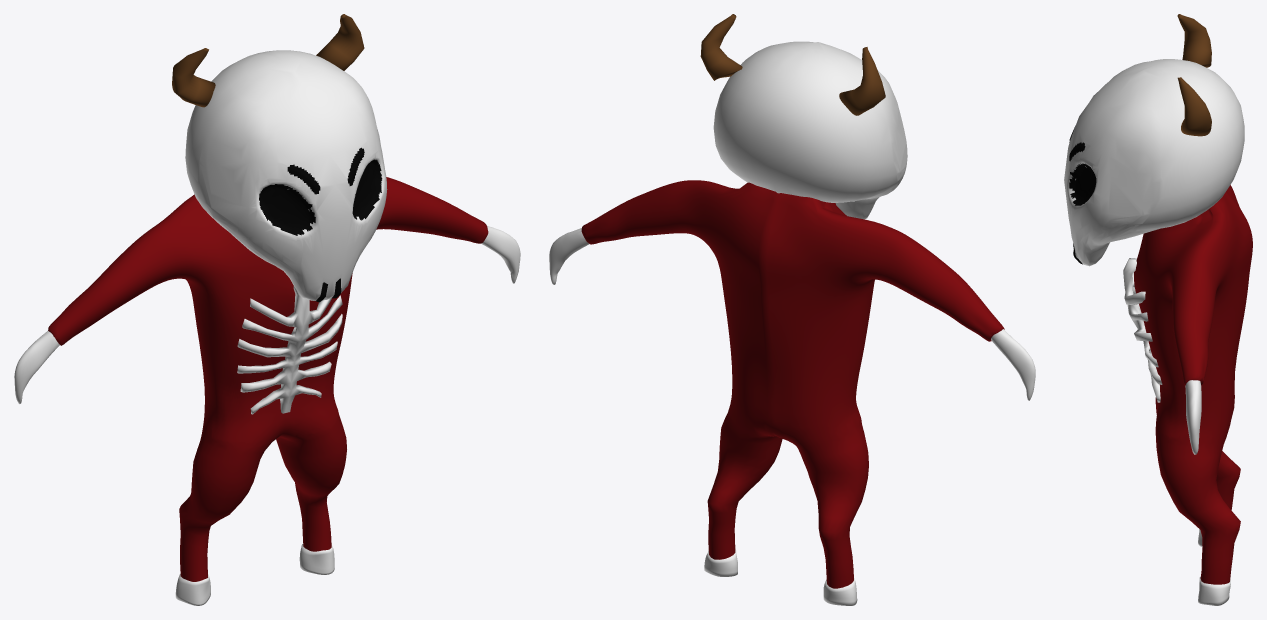
Rendered from single (1).fbx.
3 renders of one model, left to right at view 1: azimuth 30°, elevation 25°; view 2: azimuth 150°, elevation 25°; view 3: azimuth 270°, elevation 25°, orthographic. The views are drawn at different scales.
Visible parts, largest first — view 1: single; view 2: single; view 3: single.
Part boxes in pixels (left/top/right/bottom): single: left=14, top=14, right=520, bottom=605; single: left=549, top=14, right=1035, bottom=605; single: left=1064, top=14, right=1252, bottom=605.
Bounding box in the file's own units: 441 × 472 × 153.
